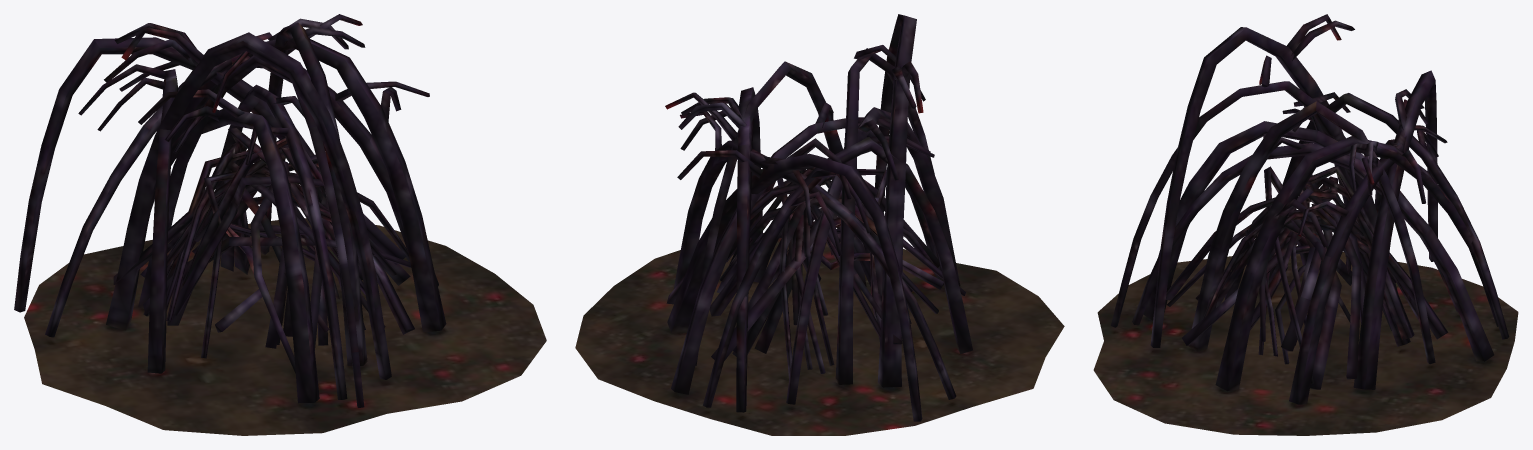
The model's file is thorn_briar.glb.
3 views of the same model, side by side, from view 1: azimuth 30°, elevation 25°; view 2: azimuth 150°, elevation 25°; view 3: azimuth 270°, elevation 25° (orthographic). The views are drawn at different scales.
Visible parts, largest first — view 1: thorn_briar; view 2: thorn_briar; view 3: thorn_briar.
Boxes of the visible parts, left/top/right/bottom form: thorn_briar: left=14, top=14, right=546, bottom=435; thorn_briar: left=575, top=14, right=1064, bottom=435; thorn_briar: left=1093, top=14, right=1518, bottom=435.
Bounding box in the file's own units: 1.66 × 1.17 × 1.56.
Materials: 1 (1 with a texture image).
